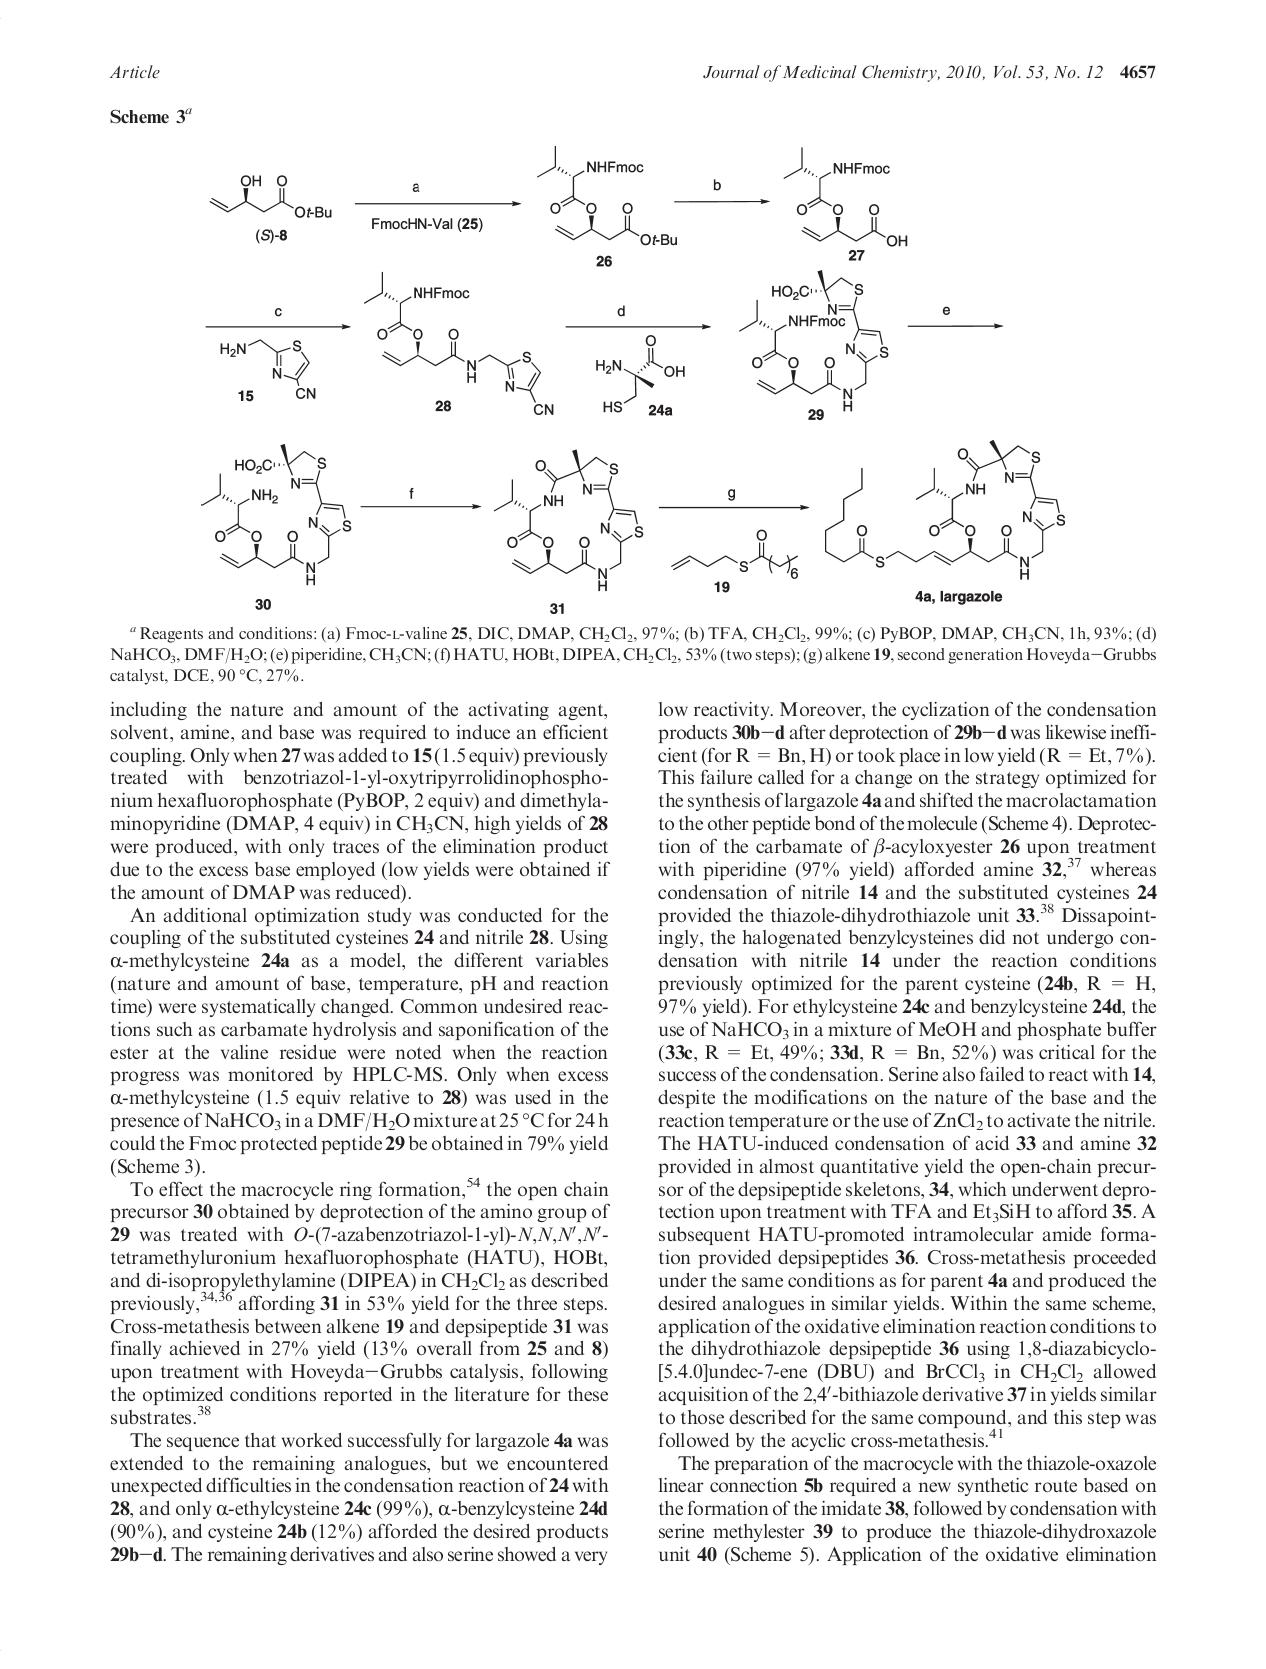exist_molecular: (823, 440, 1068, 582), (363, 265, 559, 419), (197, 443, 356, 590), (493, 448, 645, 596), (738, 269, 890, 414), (536, 144, 680, 251), (782, 144, 911, 251), (593, 332, 690, 414), (215, 335, 320, 406), (209, 168, 336, 223), (668, 529, 802, 577)
